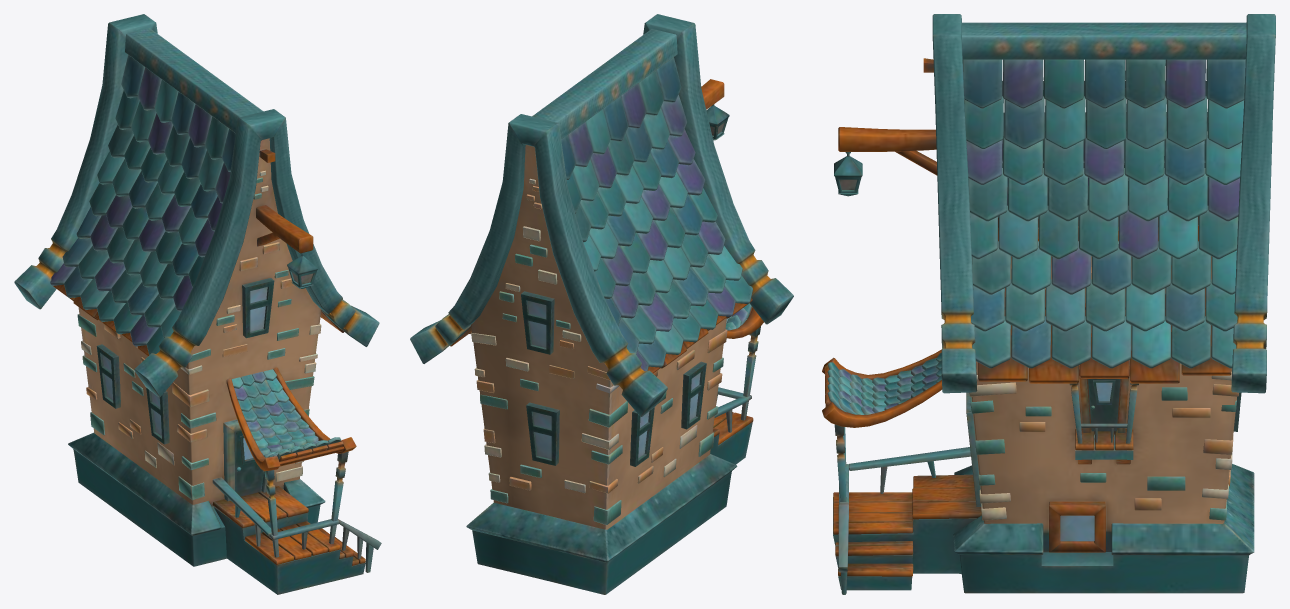
File: house_draco.glb
3 renders of one model, left to right at view 1: azimuth 30°, elevation 25°; view 2: azimuth 150°, elevation 25°; view 3: azimuth 270°, elevation 25°, orthographic. The views are drawn at different scales.
Parts seen in each view (by area): view 1: L_roof_low, walls_low, wood_border_low, bricks_low, foundation_steel_low, top_wood_low, stairs_low, small_roof_low, stairs_plank_low, window_low, front_balusters_low, small_roof_side_wood_low (+7 smaller); view 2: walls_low, L_roof_low, wood_border_low, bricks_low, foundation_steel_low, top_wood_low, window_low, windows_glass, stairs_low, front_balusters_low, stairs_plank_low, L_roof_planks_low (+3 smaller); view 3: R_roof_low, walls_low, wood_border_low, top_wood_low, foundation_steel_low, stairs_plank_low, bricks_low, stairs_low, R_roof_planks_low, small_roof_low, wood_med_top_low, small_roof_side_wood_low (+12 smaller).
Part boxes in pixels (x1,y1,x2,y2): L_roof_low: [50, 55, 235, 354]; walls_low: [73, 138, 321, 566]; wood_border_low: [14, 14, 379, 397]; bricks_low: [77, 170, 321, 500]; foundation_steel_low: [68, 432, 325, 535]; top_wood_low: [125, 28, 263, 132]; stairs_low: [213, 506, 365, 594]; small_roof_low: [231, 369, 340, 459]; stairs_plank_low: [212, 486, 365, 565]; window_low: [96, 278, 274, 444]; front_balusters_low: [235, 451, 373, 572]; small_roof_side_wood_low: [226, 367, 356, 471]; walls_low: [471, 145, 731, 594]; L_roof_low: [561, 57, 752, 371]; wood_border_low: [410, 14, 793, 416]; bricks_low: [471, 178, 727, 524]; foundation_steel_low: [466, 454, 737, 562]; top_wood_low: [532, 29, 677, 138]; window_low: [521, 291, 706, 466]; windows_glass: [528, 301, 700, 459]; stairs_low: [710, 422, 752, 464]; front_balusters_low: [716, 326, 760, 432]; stairs_plank_low: [713, 412, 753, 445]; L_roof_planks_low: [648, 298, 752, 373]; R_roof_low: [962, 59, 1245, 368]; walls_low: [959, 226, 1249, 593]; wood_border_low: [932, 14, 1275, 393]; top_wood_low: [962, 22, 1246, 59]; foundation_steel_low: [953, 463, 1254, 555]; stairs_plank_low: [833, 474, 981, 576]; bricks_low: [969, 371, 1238, 520]; stairs_low: [833, 497, 976, 590]; R_roof_planks_low: [978, 288, 1231, 383]; small_roof_low: [827, 353, 941, 414]; wood_med_top_low: [838, 127, 936, 151]; small_roof_side_wood_low: [822, 349, 942, 427].
Bounding box in the file's own units: 1.1 × 2 × 1.54.
Materials: 1 (1 with a texture image).
